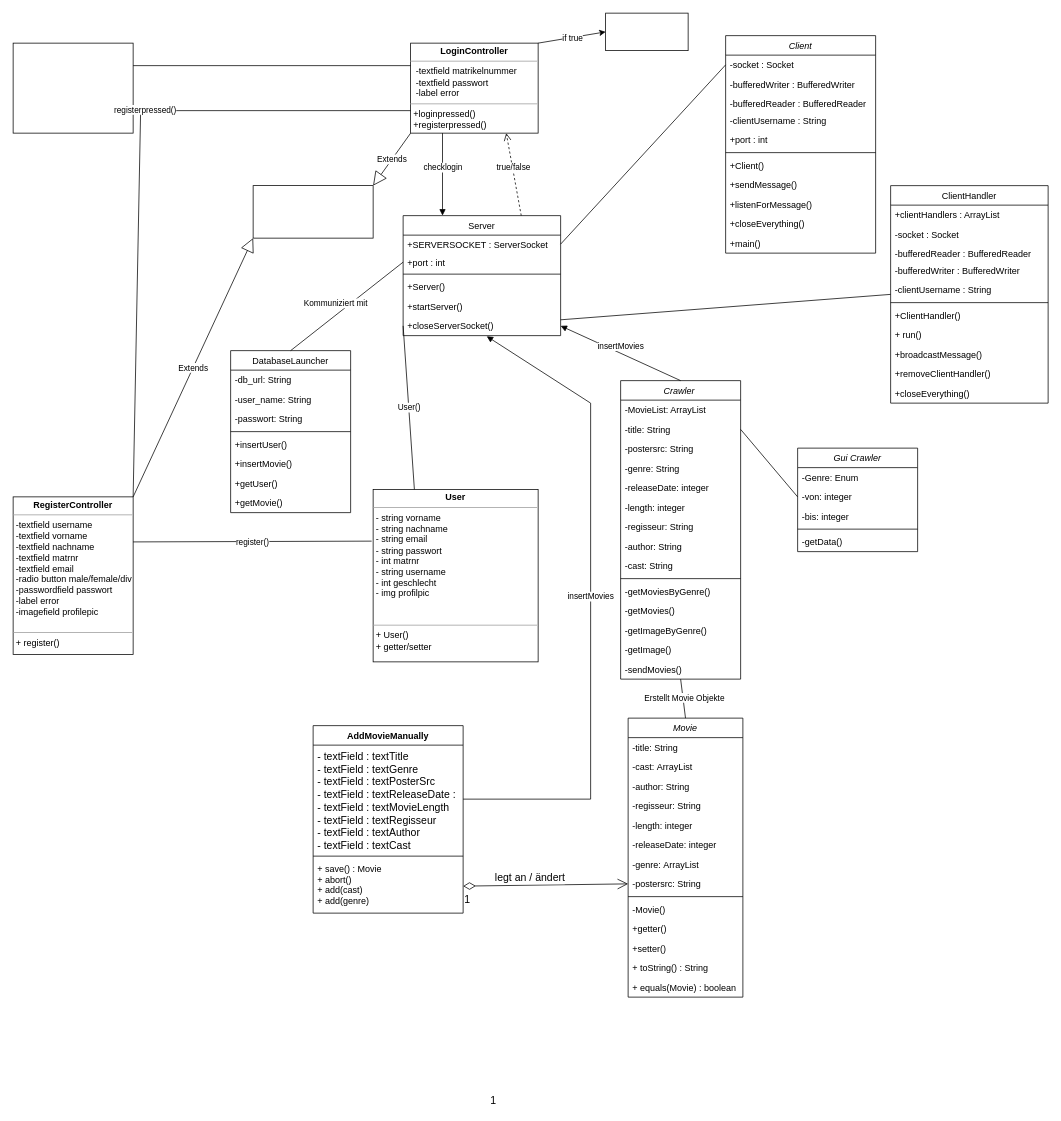
Image size: 1061x1121. Some labels were removed from this diagram. The centre of each missing label's shape, as x and y in pixels:
MainApp - Stage current - User currentUser + start() + main() + getter/setter: the point at 72,87
MainpageController: the point at 646,31
SceneController + switchScene() + switchSceneStage(): the point at 312,211
